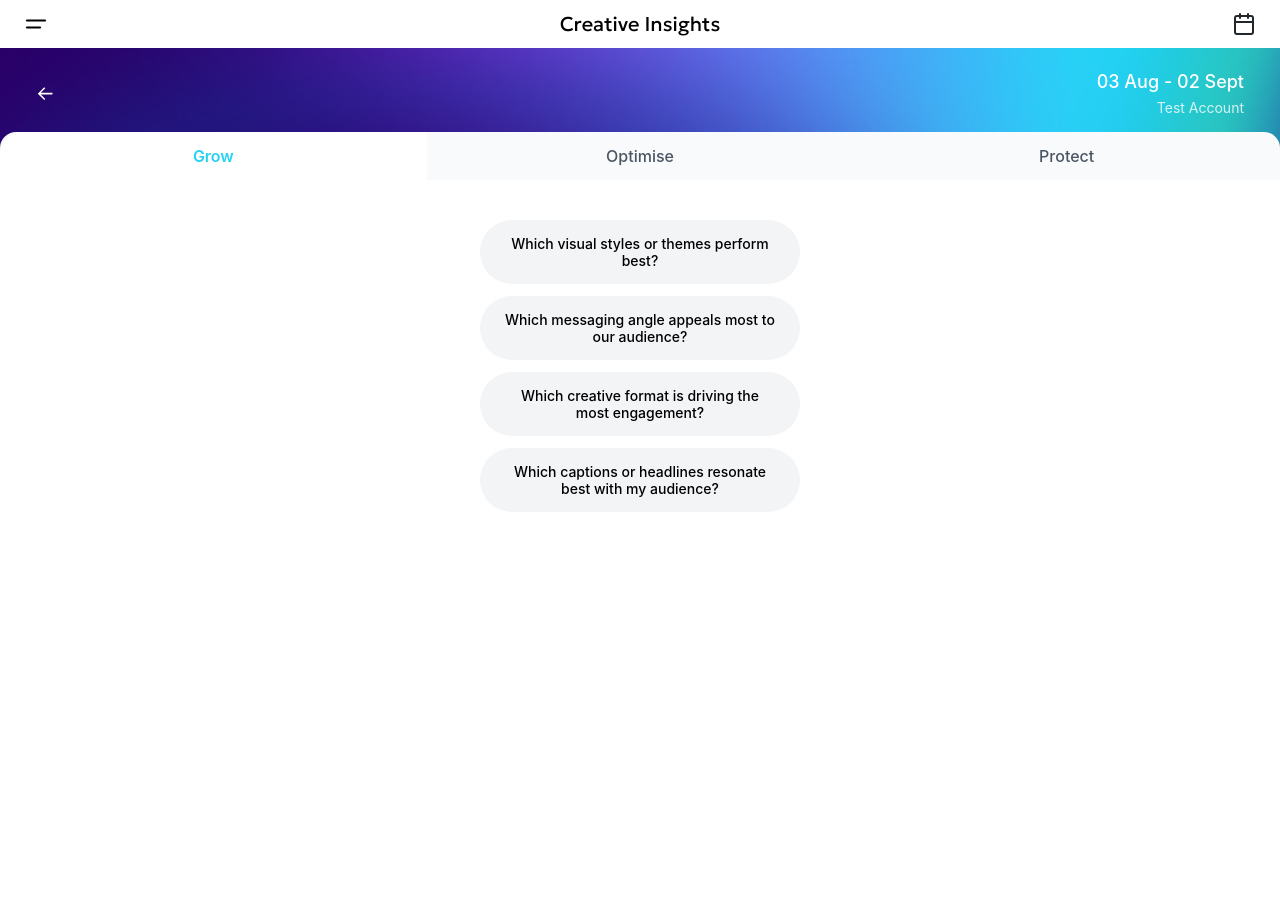
Test: CreativePageFixed › Category Navigation › switches between categories
This screenshot has width=1280, height=900.
Click on Optimise tab
Click the button "optimise". click: x=640, y=156
box: left=427, top=132, right=853, bottom=180
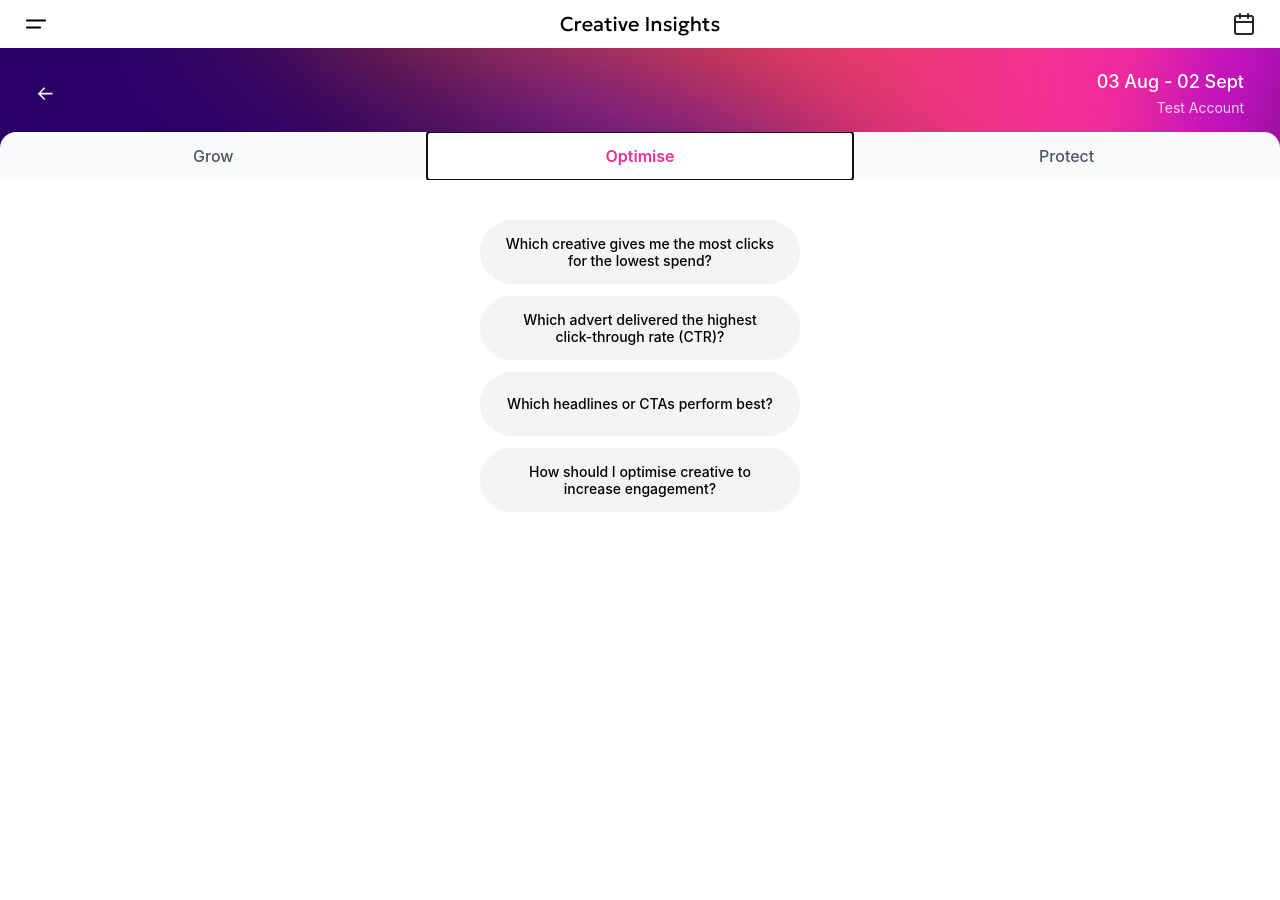
Expected: the text "Which creative gives me the most clicks for the lowest spend?" is shown, left=504, top=234, right=776, bottom=270
Click on Protect tab
Click the button "protect". click: x=1067, y=156
box: left=853, top=132, right=1279, bottom=180
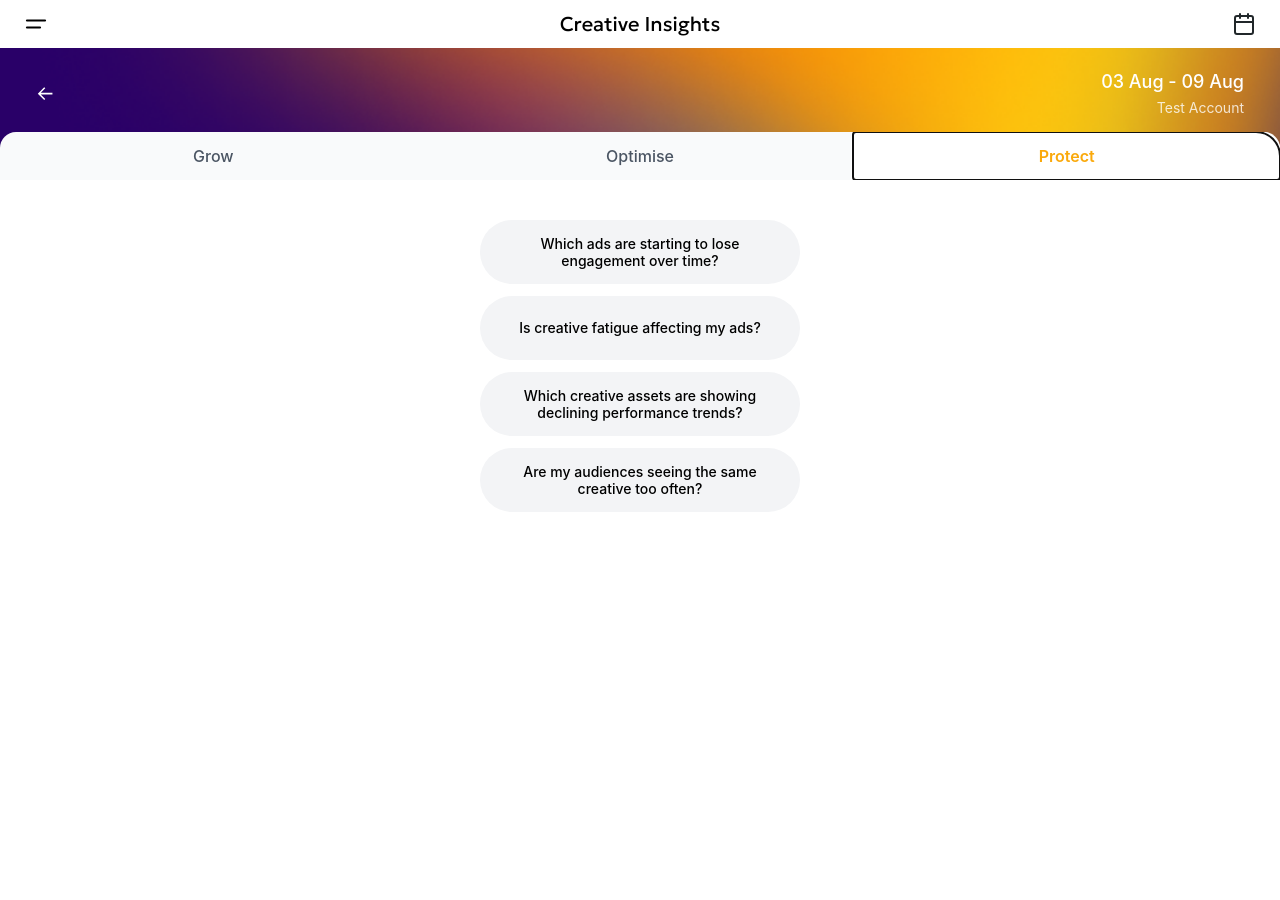
Expected: the text "Is creative fatigue affecting my ads?" is shown, left=519, top=319, right=761, bottom=337
